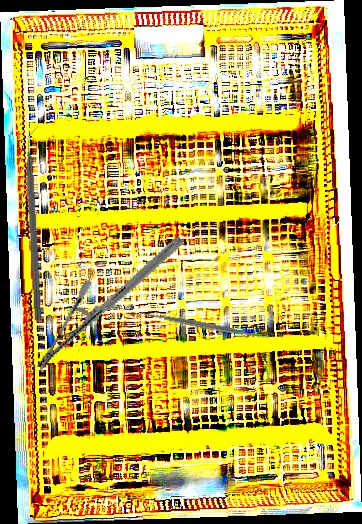Chopper: (23, 125, 53, 321)
Needle Holder: (33, 206, 186, 401)
Spatula Surgical: (135, 305, 271, 346)
